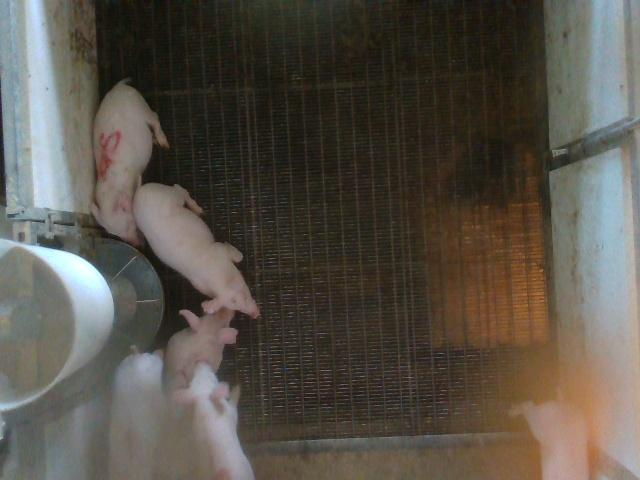pig-1: (109, 354, 165, 478)
pig-4: (156, 309, 238, 479), (176, 364, 254, 479)
pig-5: (91, 79, 169, 246)
